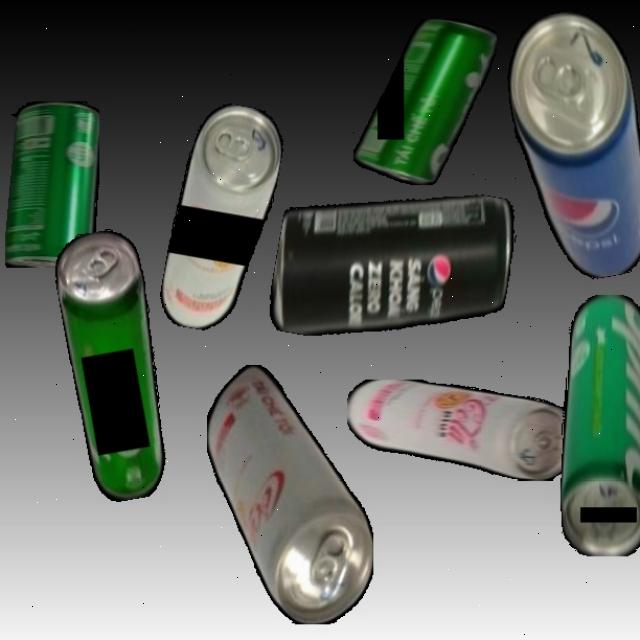debris: (264, 162, 522, 368), (206, 364, 373, 624), (496, 3, 640, 287), (49, 225, 181, 505), (156, 98, 288, 338), (352, 19, 497, 185), (346, 380, 576, 481), (559, 294, 640, 556), (5, 101, 100, 268)
